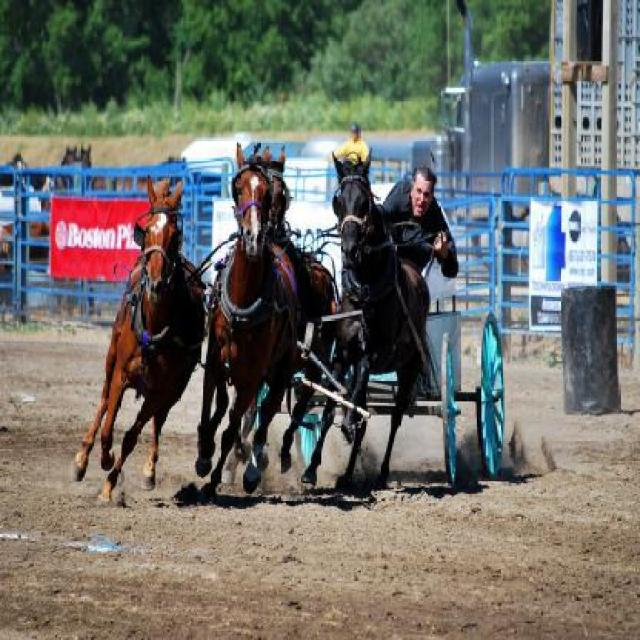Person: (388, 148, 462, 328), (326, 124, 369, 165)
